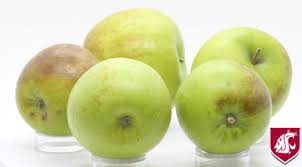apple: (77, 68, 174, 159), (90, 12, 187, 98)
damaged_apple: (194, 26, 300, 120), (180, 64, 274, 155), (12, 44, 100, 141)
